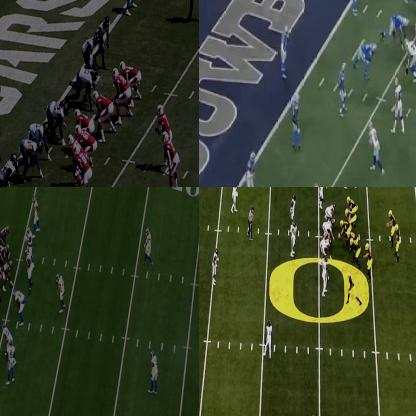CENTER: (74, 105, 94, 136), (2, 260, 13, 288), (338, 218, 352, 237)
DB: (291, 93, 301, 148), (280, 26, 290, 78), (246, 152, 259, 186), (263, 320, 273, 363), (7, 341, 15, 385), (151, 348, 159, 392), (146, 227, 155, 264), (230, 187, 240, 212), (211, 249, 218, 283), (122, 0, 141, 12)
LB: (98, 16, 110, 71), (0, 155, 19, 186), (337, 62, 348, 115), (83, 33, 99, 66), (56, 274, 64, 313), (290, 221, 298, 258), (34, 197, 42, 233), (321, 260, 329, 293), (1, 320, 12, 342), (351, 0, 360, 18), (290, 196, 296, 220), (318, 187, 325, 205)
QB: (160, 103, 175, 165), (386, 208, 397, 247)
SKILL: (163, 128, 181, 186), (367, 120, 384, 174), (73, 144, 94, 186), (392, 76, 406, 135), (346, 273, 362, 311), (121, 62, 142, 84), (394, 223, 402, 261), (365, 242, 373, 280), (346, 197, 358, 210)
